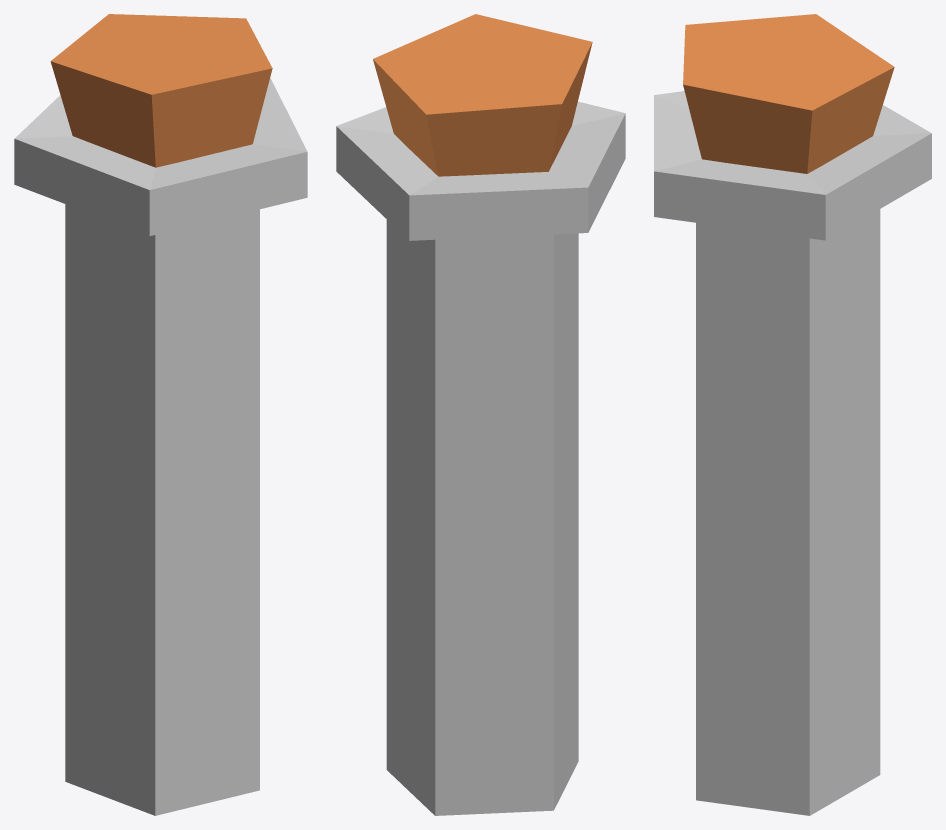
The model's file is Ampule_5.fbx.
3 renders of one model, left to right at view 1: azimuth 30°, elevation 25°; view 2: azimuth 150°, elevation 25°; view 3: azimuth 270°, elevation 25°, orthographic.
Parts seen in each view (by area): view 1: Fiol, Fiol_Cup; view 2: Fiol, Fiol_Cup; view 3: Fiol, Fiol_Cup.
Boxes of the visible parts, bbox=[...] form: Fiol: bbox=[14, 78, 307, 815]; Fiol_Cup: bbox=[50, 14, 272, 167]; Fiol: bbox=[336, 101, 625, 815]; Fiol_Cup: bbox=[373, 14, 592, 176]; Fiol: bbox=[654, 91, 931, 815]; Fiol_Cup: bbox=[683, 14, 894, 173].
Size of the model in its own units: 12.18 by 33.15 by 11.58.
